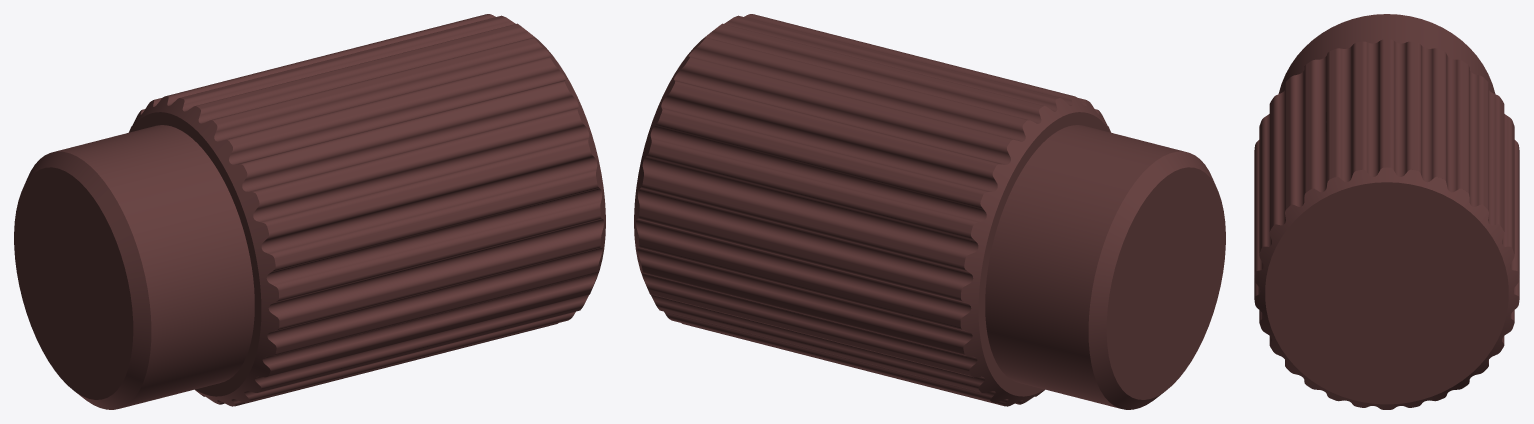
File: pomored.glb
The picture shows the model from 3 angles, left to right: view 1: azimuth 30°, elevation 25°; view 2: azimuth 150°, elevation 25°; view 3: azimuth 270°, elevation 25°; orthographic projection. The views are drawn at different scales.
Visible parts, largest first — view 1: Mesh_0.001; view 2: Mesh_0.001; view 3: Mesh_0.001.
Boxes of the visible parts, box(x1,y1,x2,y2) form: Mesh_0.001: box(14, 14, 605, 409); Mesh_0.001: box(634, 14, 1225, 409); Mesh_0.001: box(1254, 14, 1519, 409).
Bounding box in the file's own units: 0.0201 × 0.0122 × 0.012.
